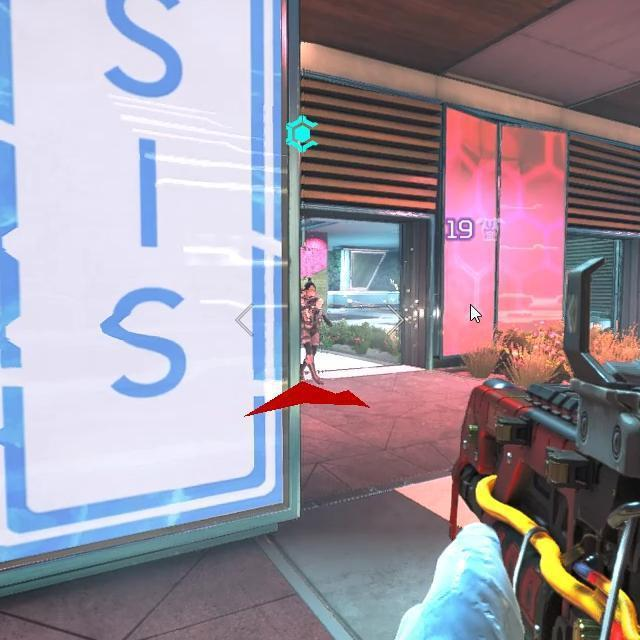avatar: (299, 277, 327, 381)
